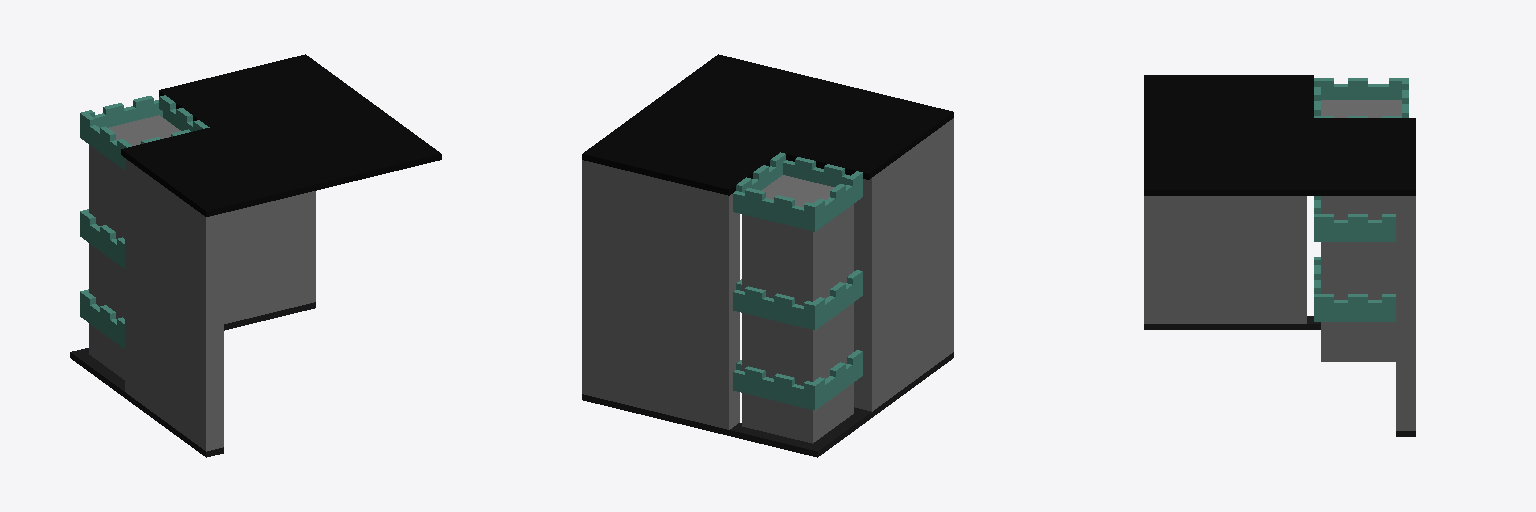
The picture shows the model from 3 angles: view 1: azimuth 30°, elevation 25°; view 2: azimuth 150°, elevation 25°; view 3: azimuth 270°, elevation 25°; orthographic projection.
Visible parts, largest first — view 1: corner1; view 2: corner1; view 3: corner1.
Boxes of the visible parts, x1=… form: corner1: x1=70, y1=54, x2=441, y2=457; corner1: x1=582, y1=54, x2=953, y2=457; corner1: x1=1144, y1=75, x2=1415, y2=436.
Size of the model in its own units: 40 by 40 by 40.
Materials: 1 (1 with a texture image).